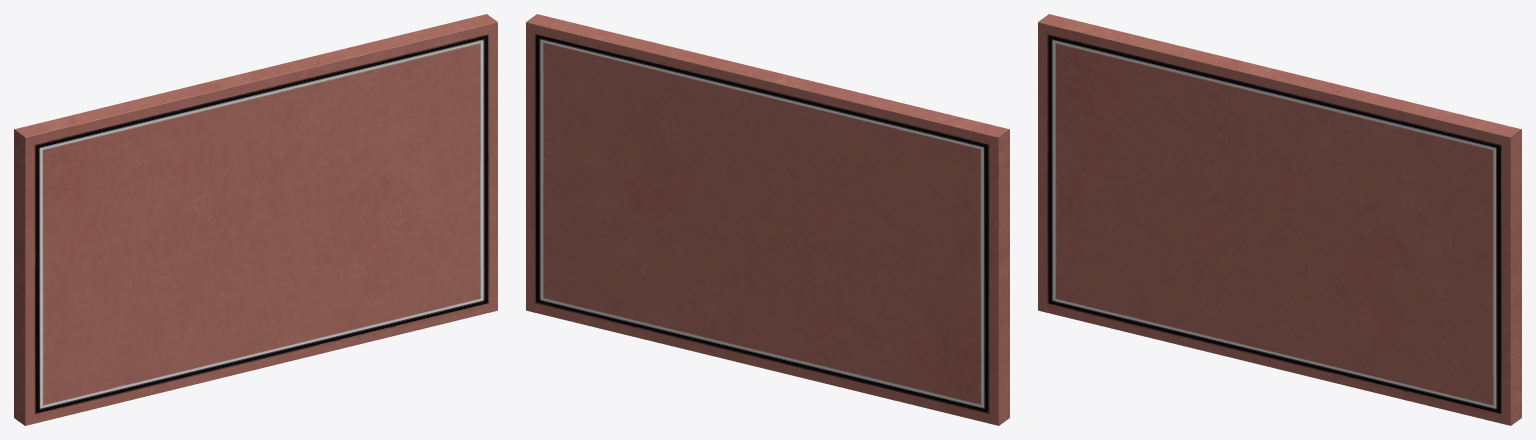
Rendered from SM_GSB_WallA.fbx.
The picture shows the model from 3 angles, left to right: view 1: azimuth 30°, elevation 25°; view 2: azimuth 150°, elevation 25°; view 3: azimuth 330°, elevation 25°; orthographic projection.
Visible parts, largest first — view 1: SM_GSB_WallA; view 2: SM_GSB_WallA; view 3: SM_GSB_WallA.
Boxes of the visible parts, x1,y1,x2,y2 form: SM_GSB_WallA: [14, 14, 497, 425]; SM_GSB_WallA: [526, 14, 1009, 425]; SM_GSB_WallA: [1038, 14, 1521, 425].
Bounding box in the file's own units: 272 × 11.22 × 159.
1 material, 1 textured.
